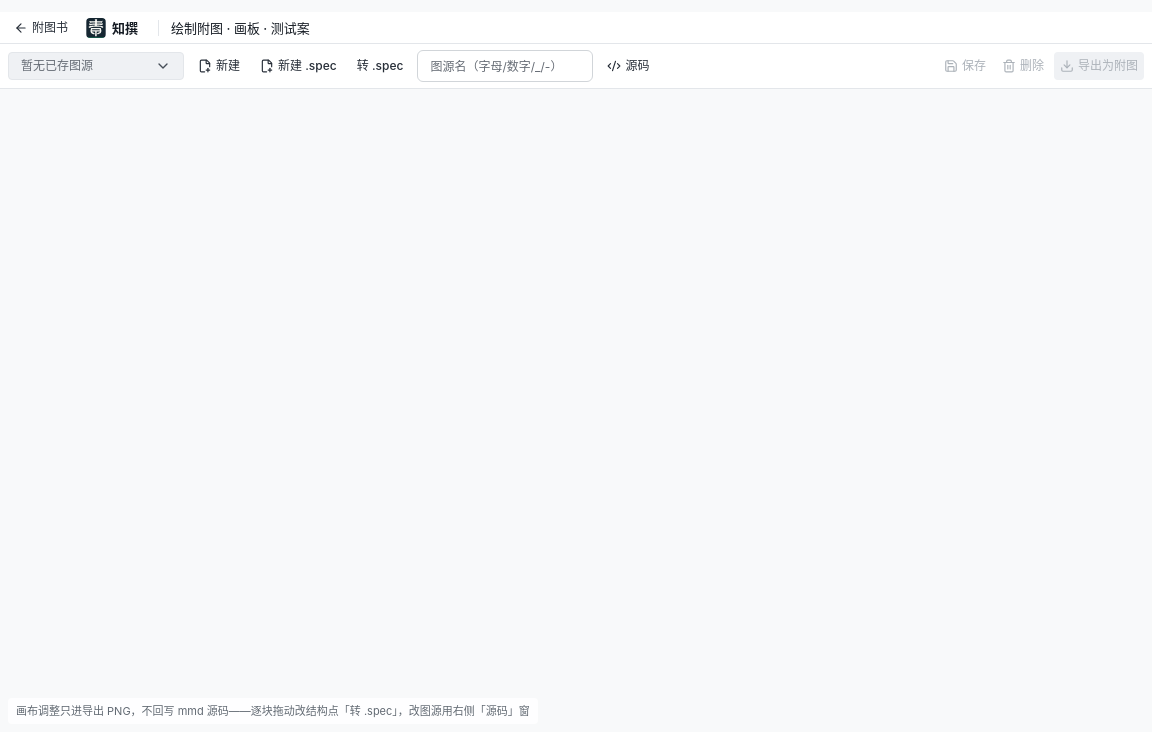
Test case: BoardPage 全图类可编辑（mmd→spec 转换 + 位图标注模式） › 「转 .spec」按钮：mmd 源码 → spec 交互画布
The width and height of the screenshot is (1152, 732).
Click the button with test id "board-to-spec" at coordinates (380, 66), box [351,52,409,80]
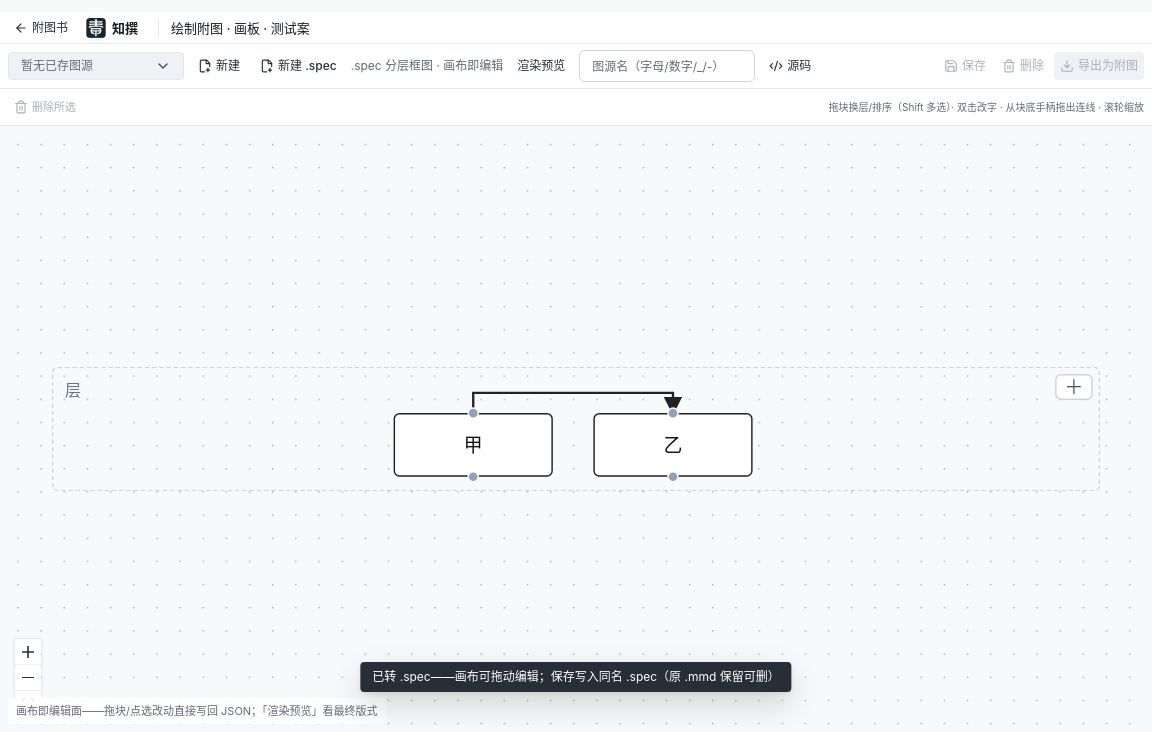
Expected: the element with test id "canvas-block-A" is shown, [394,413,553,477]
Expected: the element with test id "canvas-block-B" is shown, [593,413,753,477]
